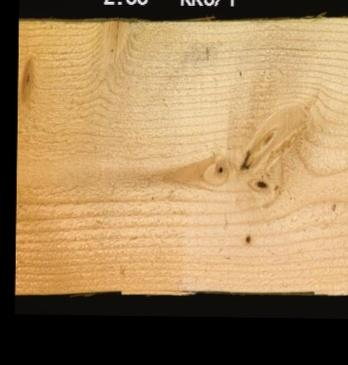small_knot: (210, 158, 229, 177), (239, 230, 255, 242)
